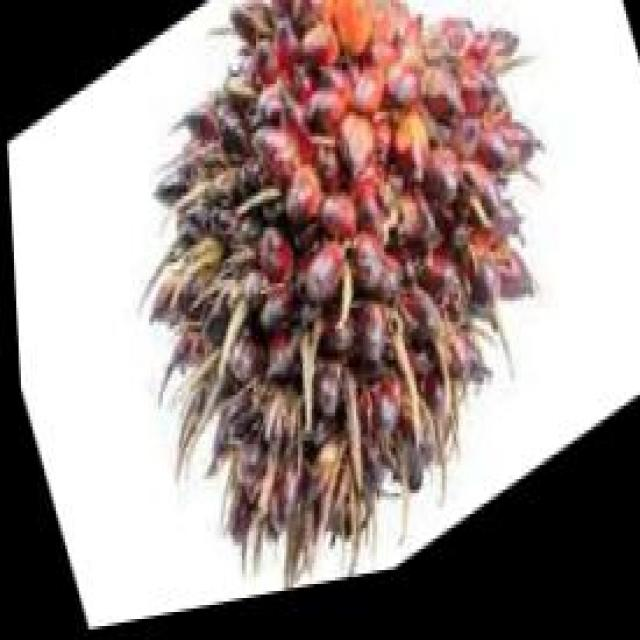Ripefruit: (72, 0, 617, 630)
